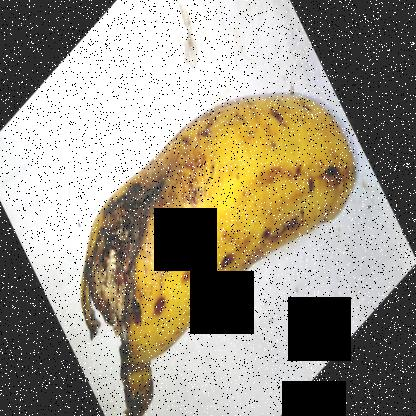rotten: (32, 129, 188, 415)
